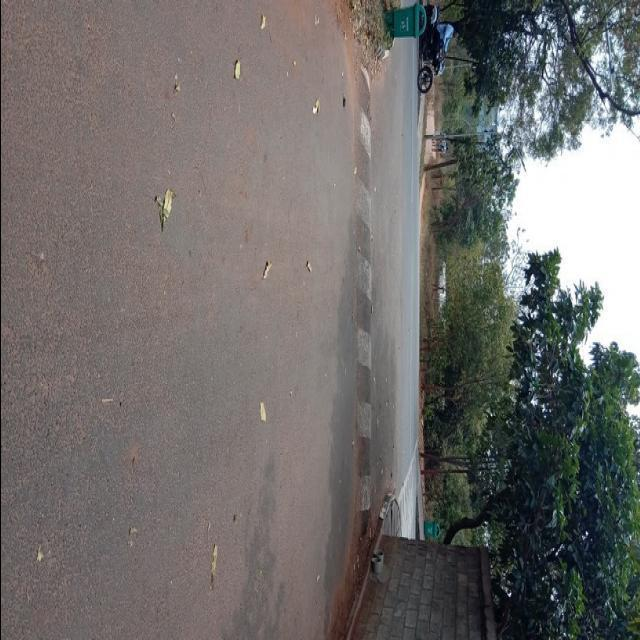speedbreaker: (350, 66, 376, 578)
